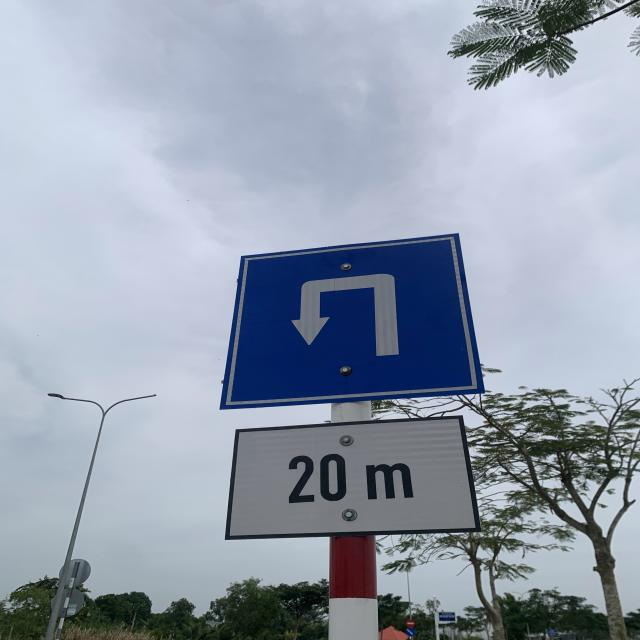Den_Giao_Thong: (222, 232, 488, 404)
